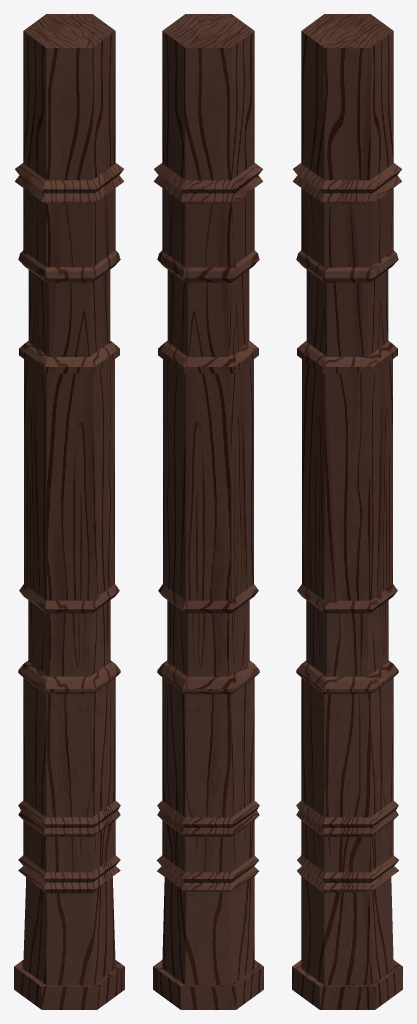
Rendered from sütun 2.fbx.
The picture shows the model from 3 angles, left to right: view 1: azimuth 30°, elevation 25°; view 2: azimuth 150°, elevation 25°; view 3: azimuth 330°, elevation 25°; orthographic projection.
Parts seen in each view (by area): view 1: Cylinder.010; view 2: Cylinder.010; view 3: Cylinder.010.
Boxes of the visible parts, x1,y1,x2,y2 form: Cylinder.010: [14, 14, 124, 1009]; Cylinder.010: [153, 14, 263, 1009]; Cylinder.010: [292, 14, 402, 1009].
Size of the model in its own units: 85.68 by 945 by 98.94.
Materials: 1 (1 with a texture image).
